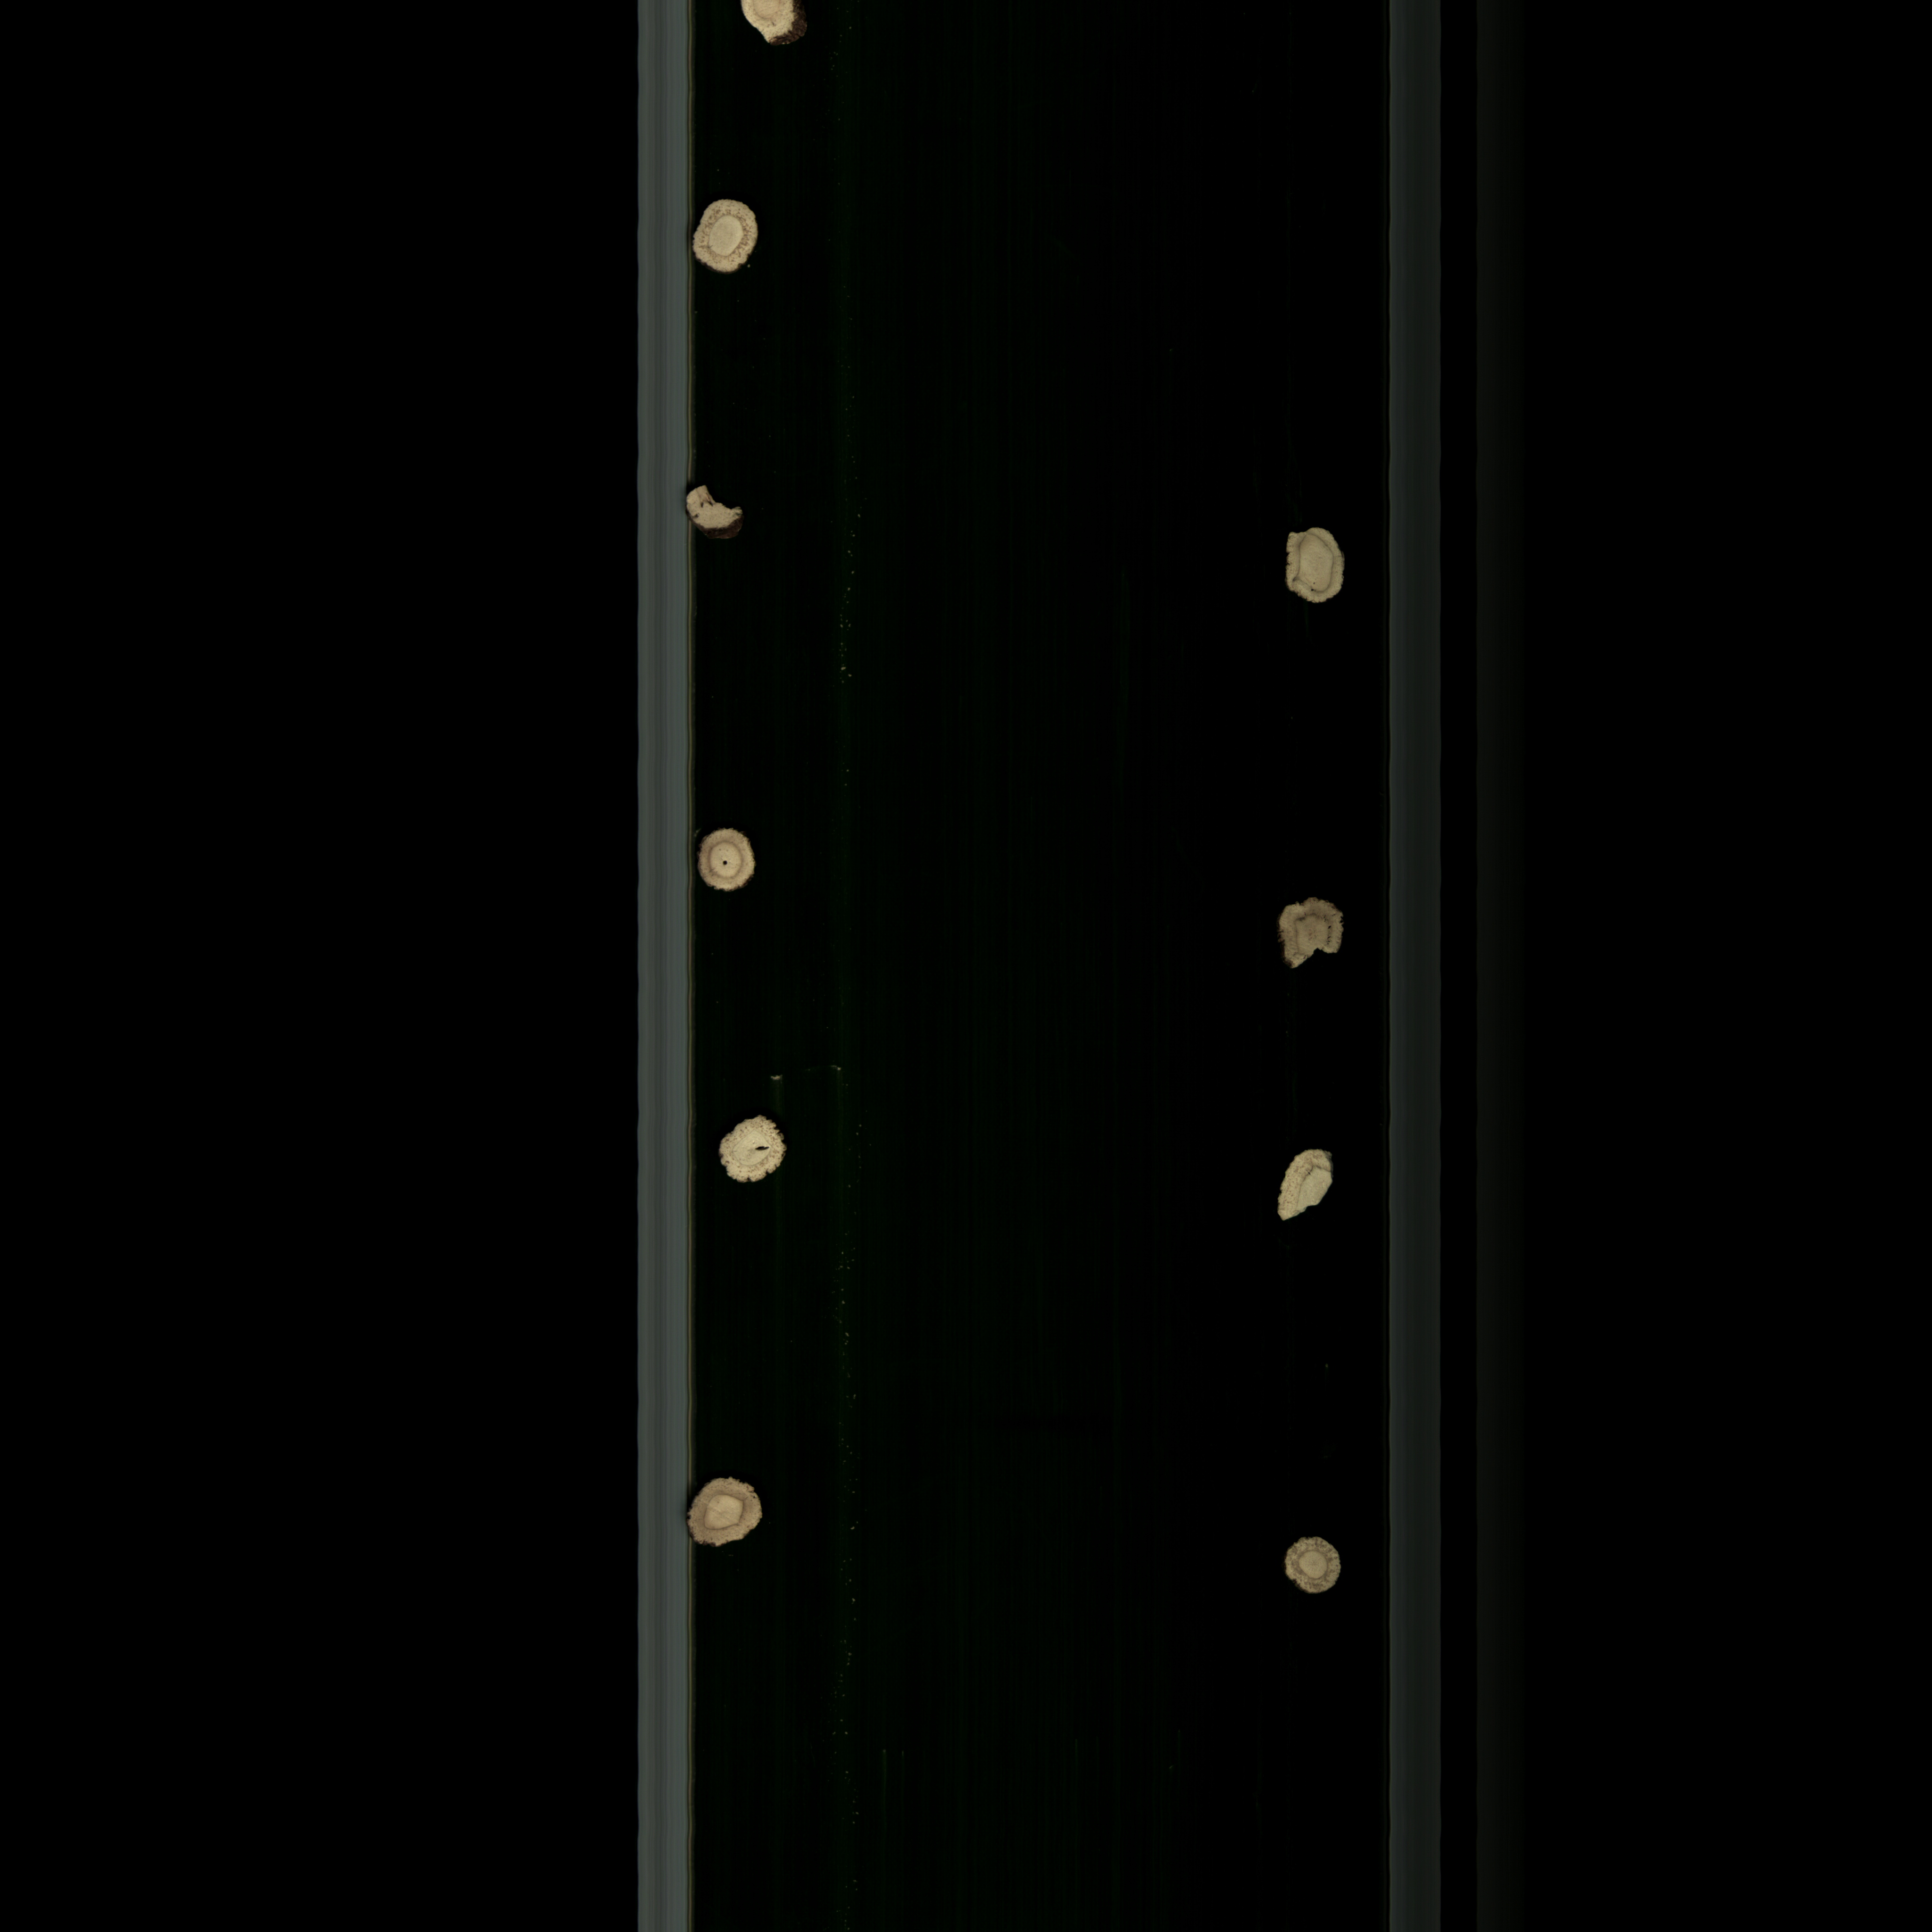debris: (1269, 1141, 1341, 1233), (679, 479, 755, 543)
hole: (699, 1111, 800, 1196)
moldy: (1261, 517, 1364, 621), (683, 1474, 773, 1559), (686, 195, 766, 283), (1267, 897, 1348, 980), (692, 823, 771, 908), (1276, 1522, 1346, 1608)
